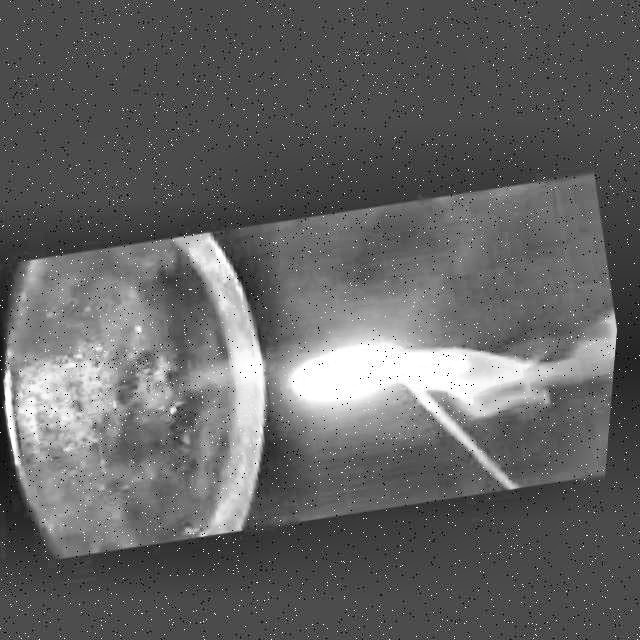Fire: (288, 293, 553, 432)
